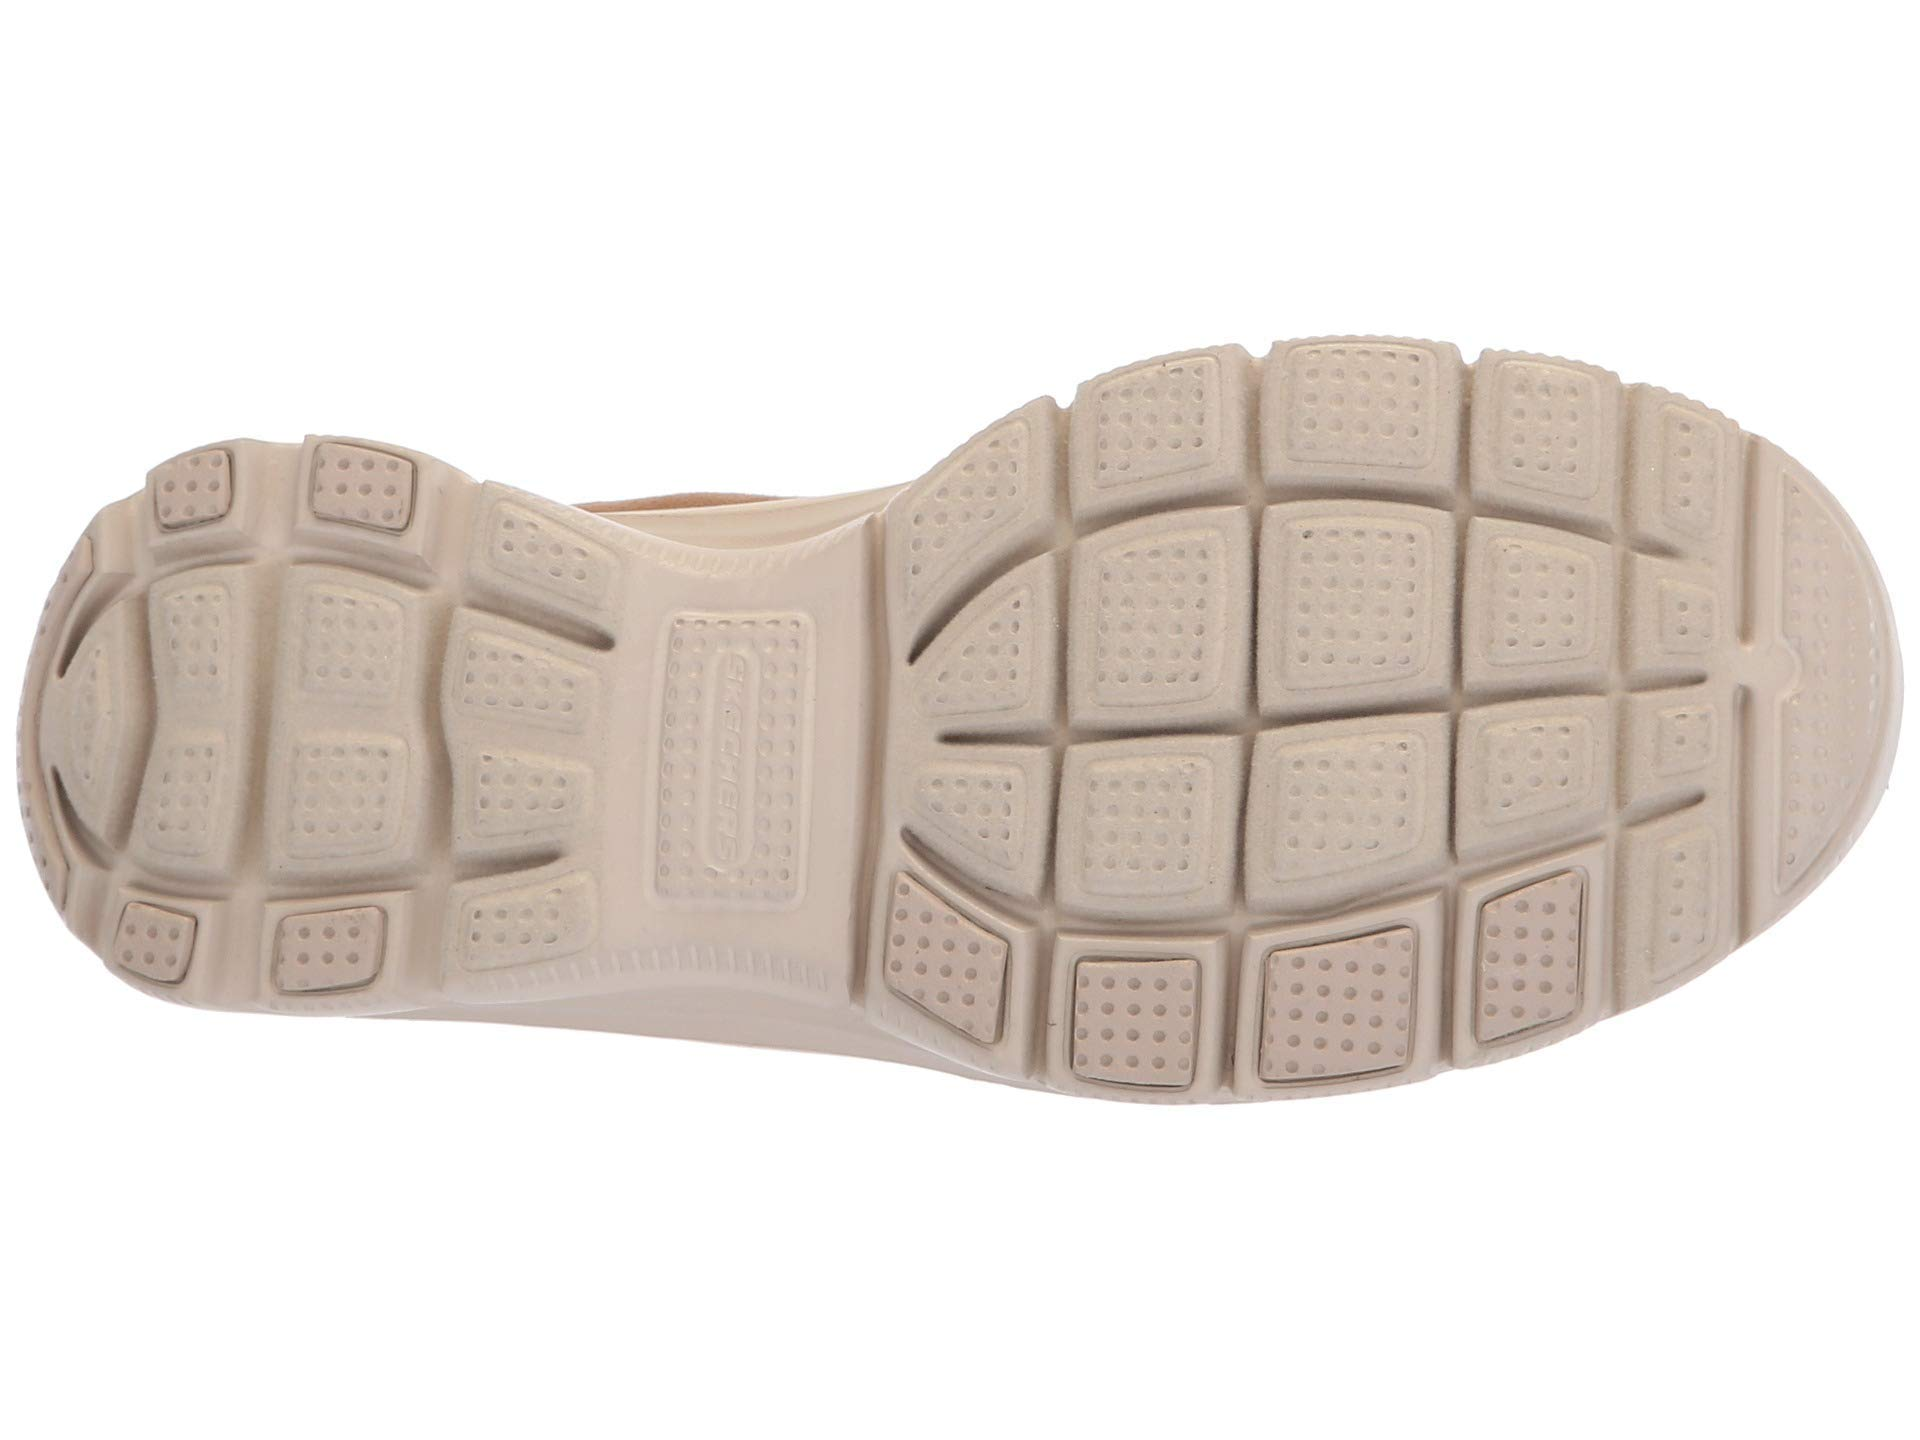circle: (649, 604, 812, 917), (1276, 519, 1457, 703), (1244, 915, 1429, 1085), (1085, 516, 1229, 717), (871, 874, 1016, 1057), (1795, 542, 1875, 827), (1287, 334, 1444, 476), (1058, 944, 1212, 1085), (1469, 862, 1584, 1041), (900, 749, 1055, 874), (1274, 744, 1426, 867), (1497, 346, 1609, 511), (1085, 352, 1217, 487), (1084, 749, 1209, 888), (924, 582, 1036, 731), (290, 578, 417, 706), (1485, 523, 1593, 672), (289, 729, 411, 858), (455, 867, 596, 970), (488, 507, 621, 614), (145, 579, 249, 708), (150, 722, 237, 862), (1646, 826, 1722, 980), (305, 434, 422, 531), (1476, 715, 1587, 815), (266, 909, 386, 995), (162, 578, 240, 708), (148, 430, 231, 551), (1655, 407, 1725, 542), (107, 892, 197, 982), (1657, 573, 1723, 672), (1646, 702, 1722, 776)
quad: (649, 604, 812, 917), (1276, 519, 1457, 703), (1244, 915, 1429, 1085), (1085, 516, 1229, 717), (871, 874, 1016, 1057), (1287, 334, 1444, 476), (1058, 944, 1212, 1085), (1469, 862, 1584, 1041), (900, 749, 1055, 874), (1274, 744, 1426, 867), (1497, 346, 1609, 511), (1085, 352, 1217, 487), (1084, 749, 1209, 888), (290, 578, 417, 706), (1485, 523, 1593, 672), (289, 729, 411, 858), (455, 867, 596, 970), (488, 507, 621, 614), (145, 579, 249, 708), (150, 722, 237, 862), (1646, 826, 1722, 980), (305, 434, 422, 531), (1476, 715, 1587, 815), (266, 909, 386, 995), (148, 430, 231, 551), (1655, 407, 1725, 542), (107, 892, 197, 982), (1657, 573, 1723, 672), (1646, 702, 1722, 776)
text: (649, 604, 812, 917)
triangle: (924, 582, 1036, 731)
